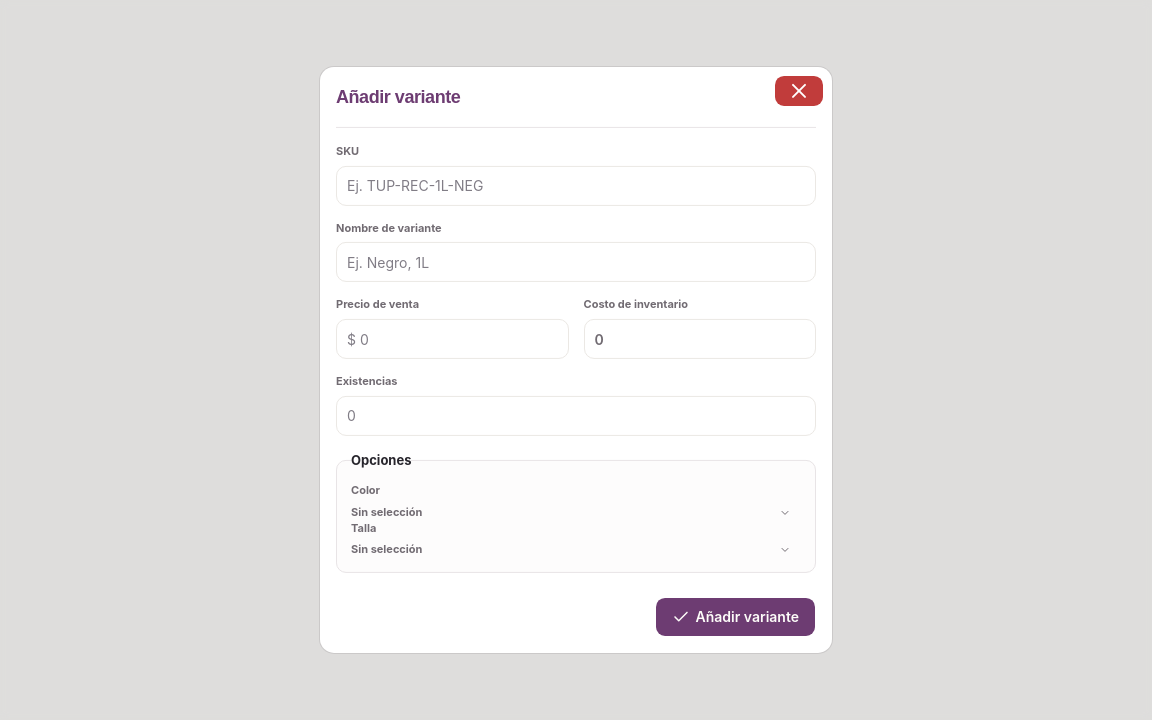
Scenario: VariantManagerModal › Formulario - Envío › debería deshabilitar el botón durante el envío
Type "NUE-VAR-001" into the field labelled "SKU".
click(576, 186); type("NUE-VAR-001")  # box x1=336 y1=166 x2=816 y2=206
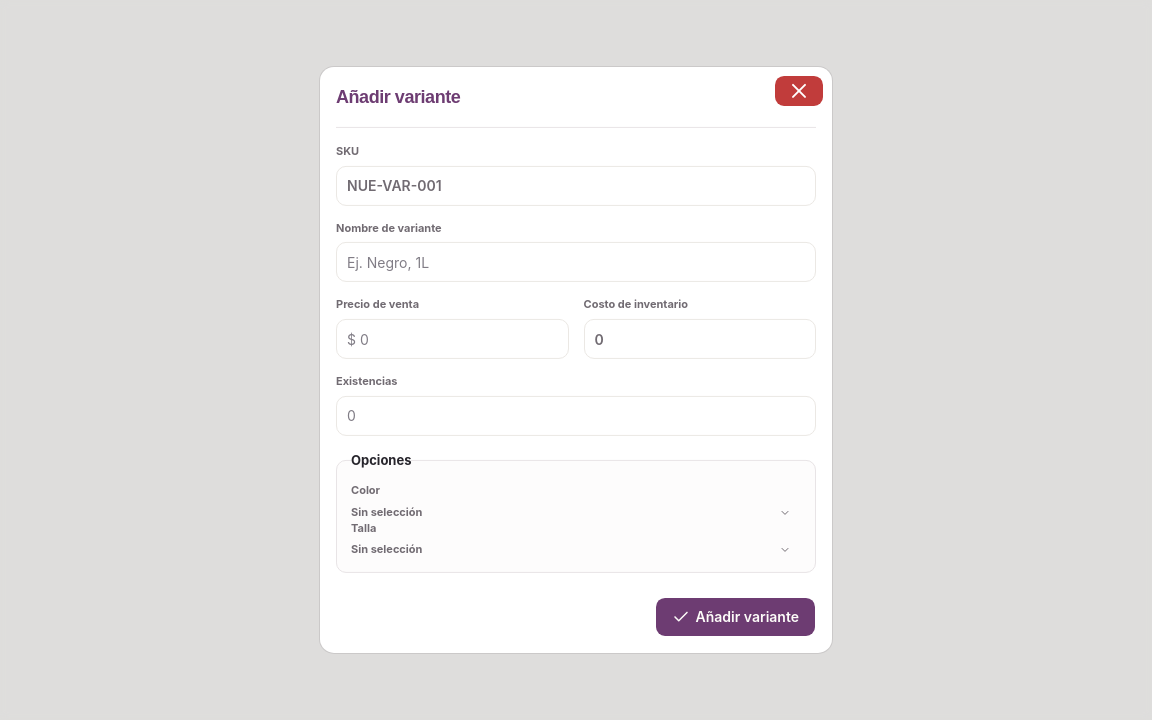
Type "200" into the number field labelled "Precio de venta".
click(452, 339); type("200")  # box x1=336 y1=319 x2=568 y2=359
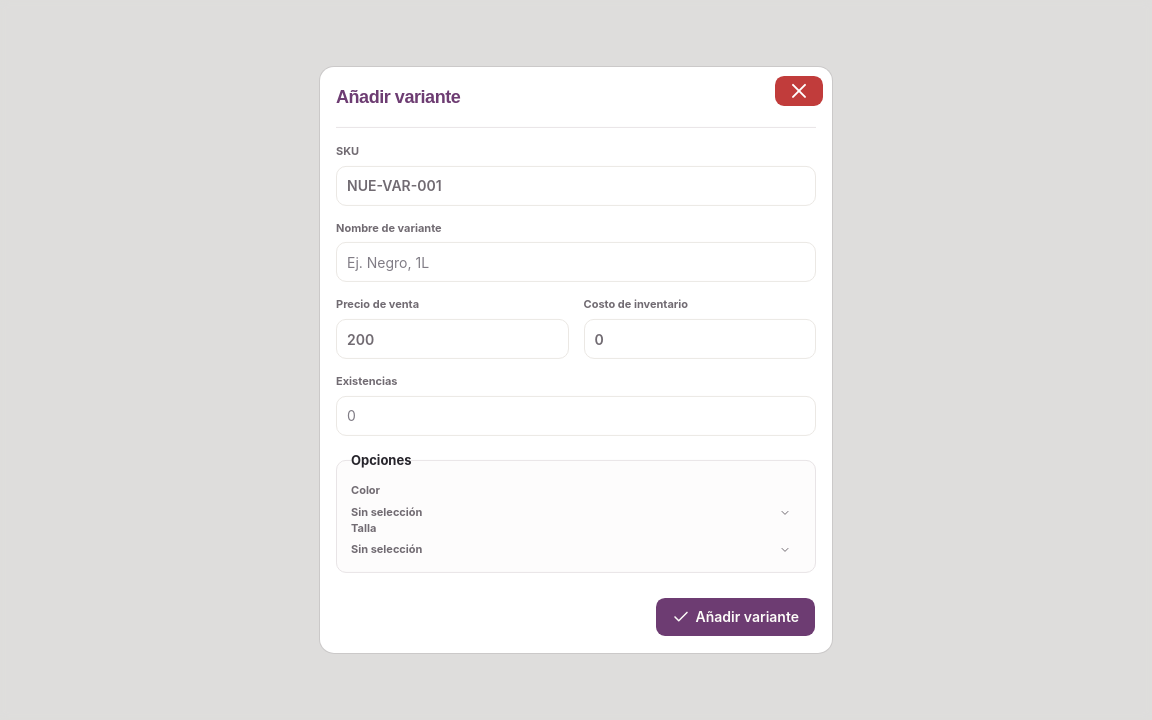
Type "50" into the number field labelled "Existencias".
click(576, 416); type("50")  # box x1=336 y1=396 x2=816 y2=436
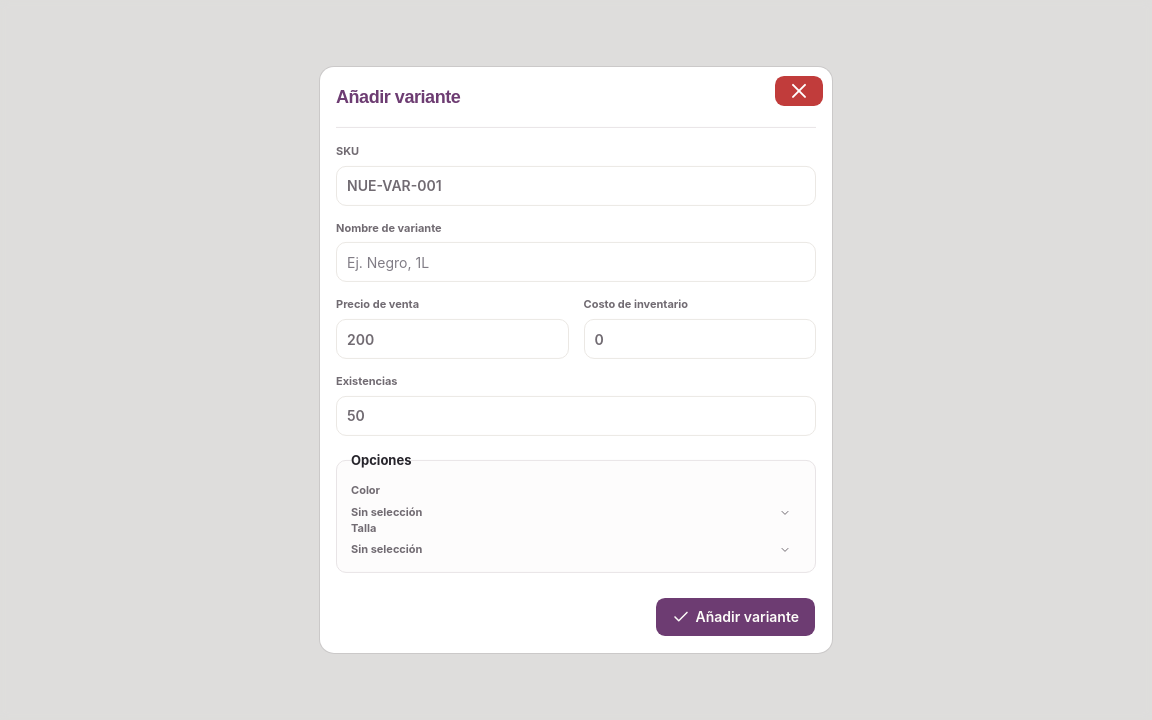
Click the button "Añadir variante".
click(735, 617)  # box x1=655 y1=597 x2=816 y2=637
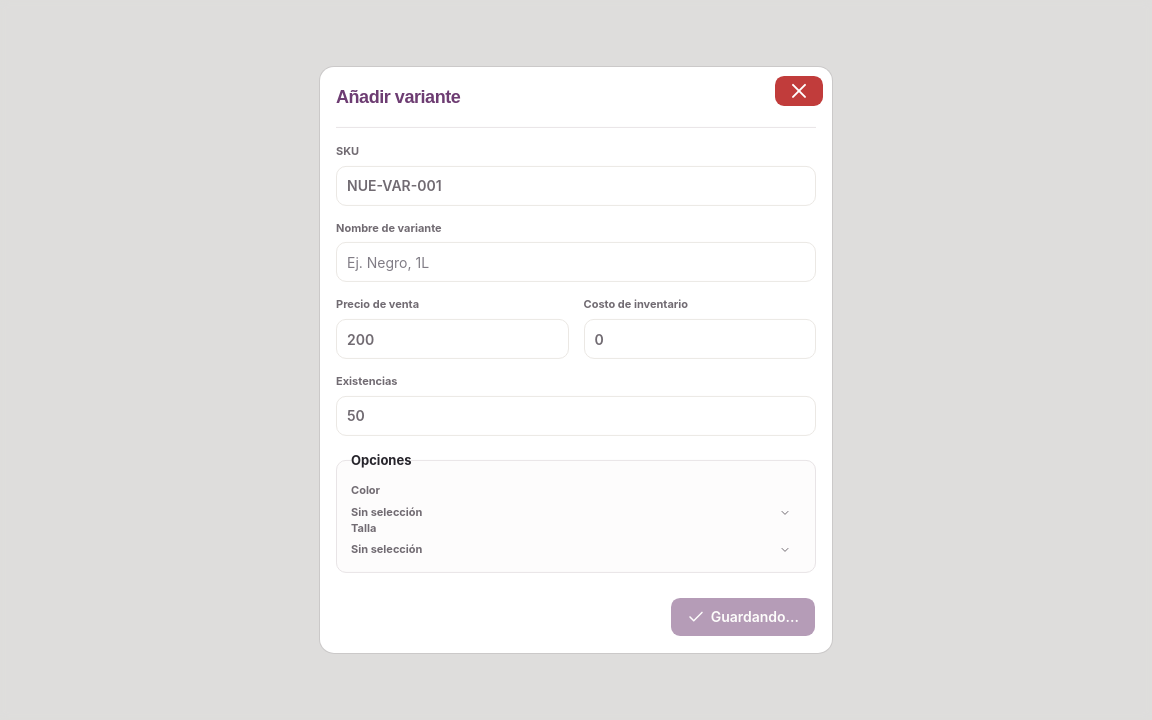
expect the button named "añadir variante" is disabled: met, box x1=670 y1=597 x2=816 y2=637
